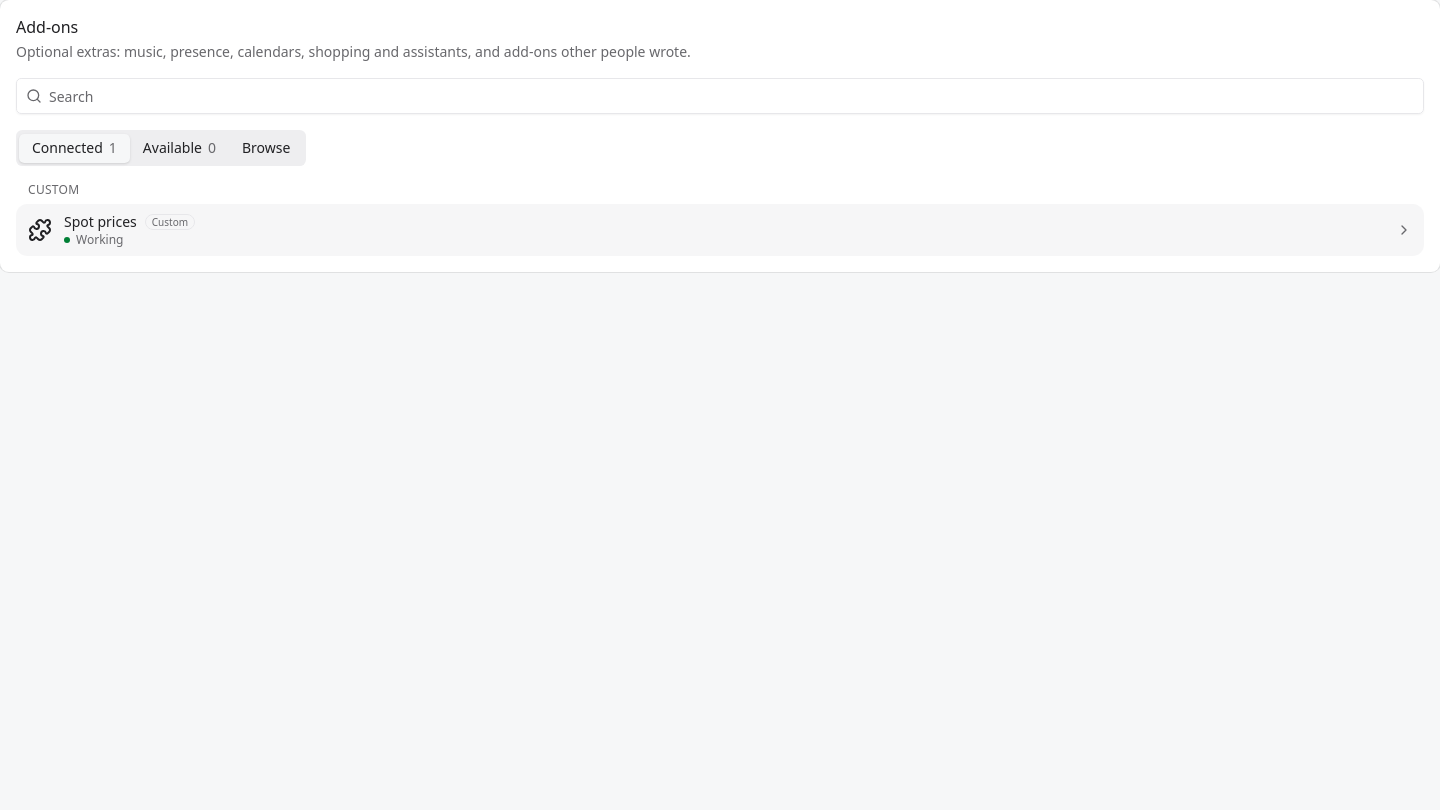
the panel › shows the log, newest first, with levels and times
The width and height of the screenshot is (1440, 810).
Click the button with aria-label "Configure Spot prices" at (100, 222), box 16,204 -> 1424,256
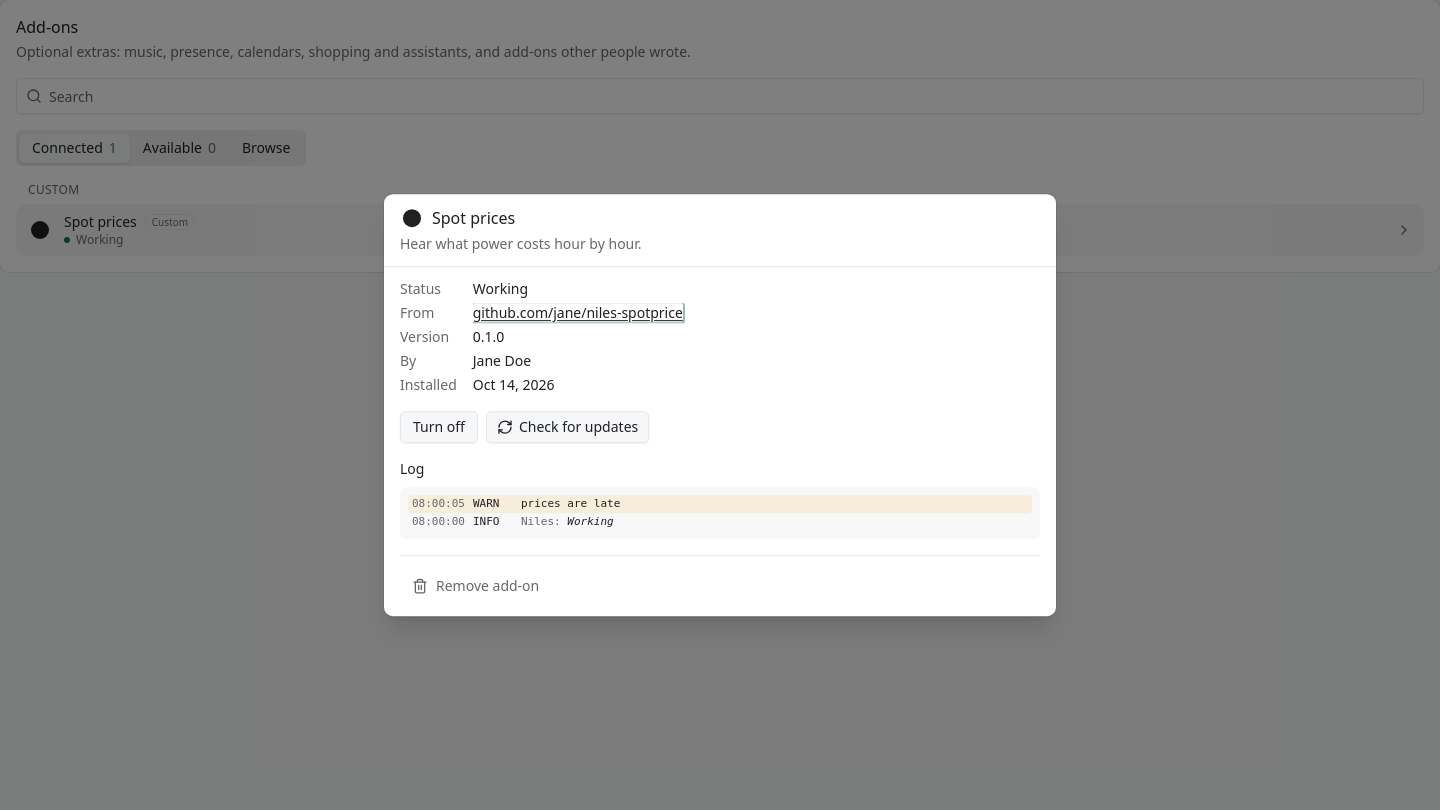
Check: the list item "08:00:05 warn prices are late" is shown, box 408,495 -> 1032,513
Check: the list item "08:00:00 info Niles: Working" is shown, box 412,515 -> 614,528
Check: the text "08:00:00" is shown, box 412,513 -> 465,531
